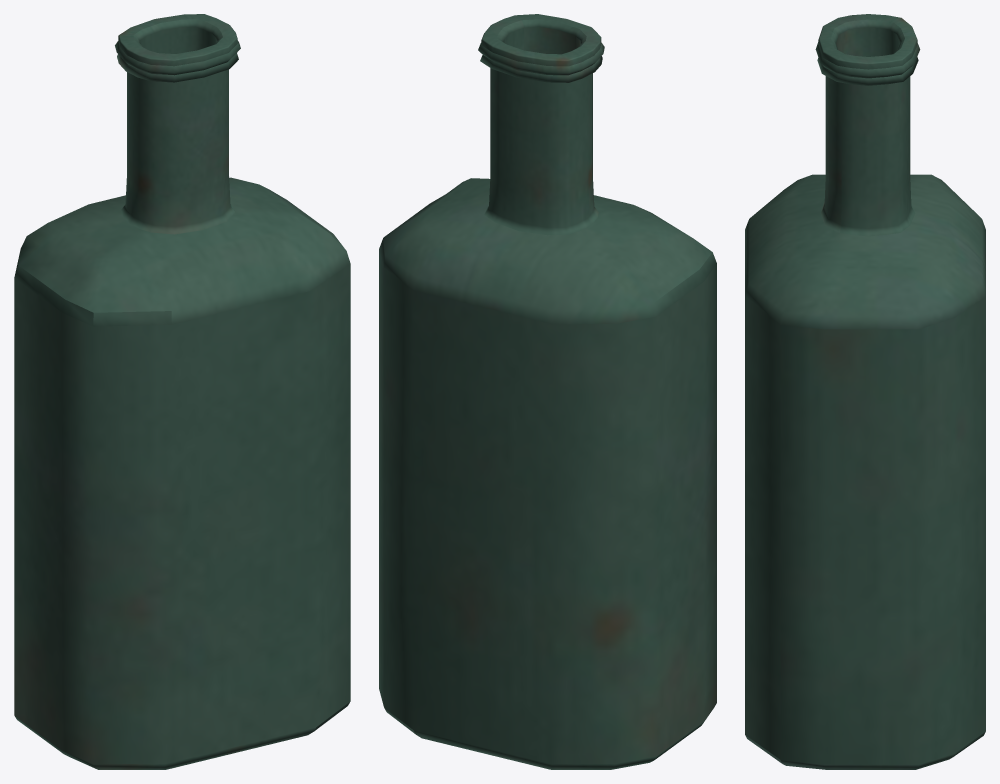
The model's file is Props_Bouteille.fbx.
3 renders of one model, left to right at view 1: azimuth 30°, elevation 25°; view 2: azimuth 150°, elevation 25°; view 3: azimuth 270°, elevation 25°, orthographic.
Parts seen in each view (by area): view 1: Props_bouteille; view 2: Props_bouteille; view 3: Props_bouteille.
Boxes of the visible parts, <box> form: Props_bouteille: <box>14,14,350,769</box>; Props_bouteille: <box>379,14,716,769</box>; Props_bouteille: <box>745,14,985,769</box>.
Bounding box in the file's own units: 45.55 × 106 × 34.65.
